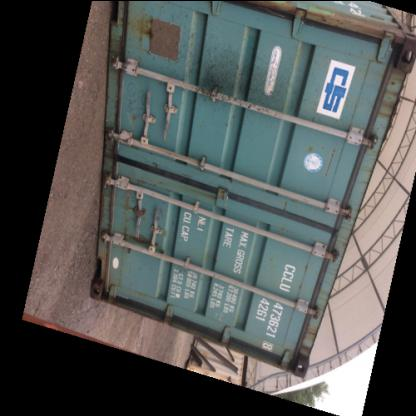Damage: (199, 66, 289, 110), (144, 15, 194, 61), (127, 224, 157, 252)
